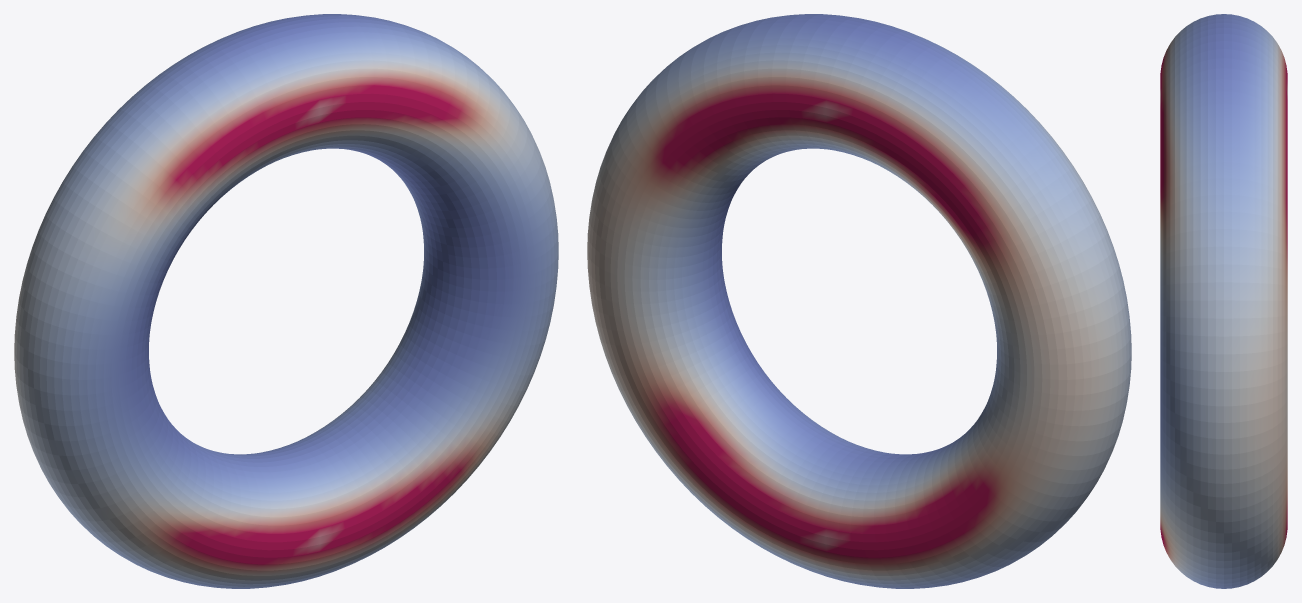
3 renders of one model, left to right at view 1: azimuth 30°, elevation 25°; view 2: azimuth 150°, elevation 25°; view 3: azimuth 270°, elevation 25°, orthographic. The views are drawn at different scales.
Visible parts, largest first — view 1: world; view 2: world; view 3: world.
Boxes of the visible parts, left/top/right/bottom form: world: left=14, top=14, right=558, bottom=588; world: left=587, top=14, right=1131, bottom=588; world: left=1160, top=14, right=1287, bottom=588.
Size of the model in its own units: 22.27 by 22.27 by 4.92.
